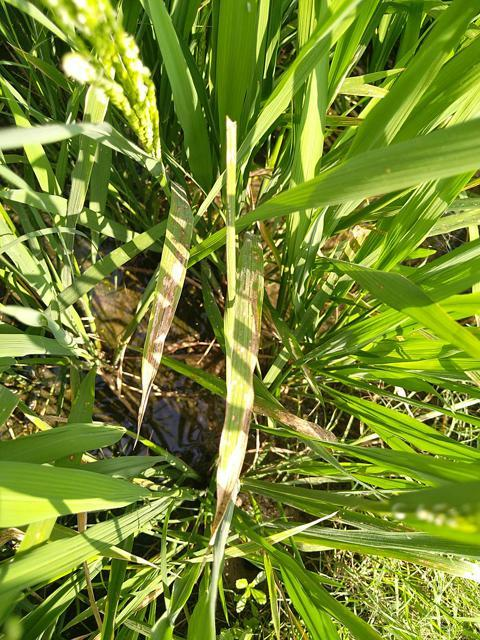Leaf Blight: (136, 183, 193, 442), (212, 268, 261, 537), (253, 382, 338, 441)
